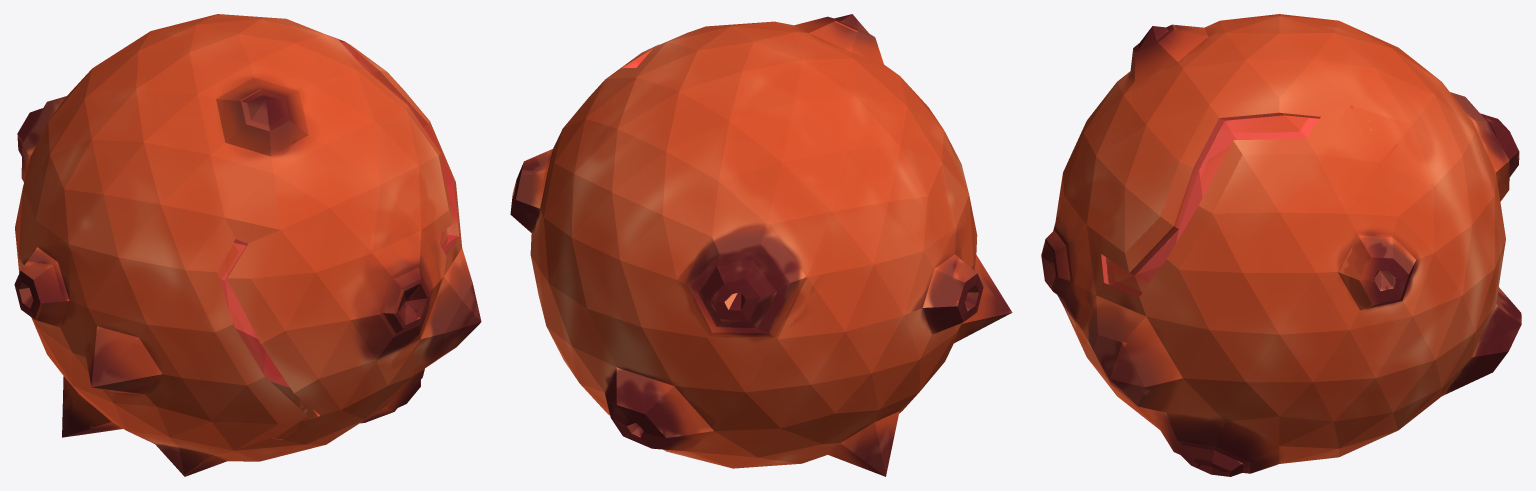
File: planet.fbx
3 views of the same model, side by side, from view 1: azimuth 30°, elevation 25°; view 2: azimuth 150°, elevation 25°; view 3: azimuth 270°, elevation 25° (orthographic).
Visible parts, largest first — view 1: Icosphere; view 2: Icosphere; view 3: Icosphere.
Boxes of the visible parts, box(x1,y1,x2,y2) form: Icosphere: box(14, 14, 481, 476); Icosphere: box(510, 14, 1012, 476); Icosphere: box(1041, 14, 1521, 476).
Bounding box in the file's own units: 2.11 × 2 × 2.12.
